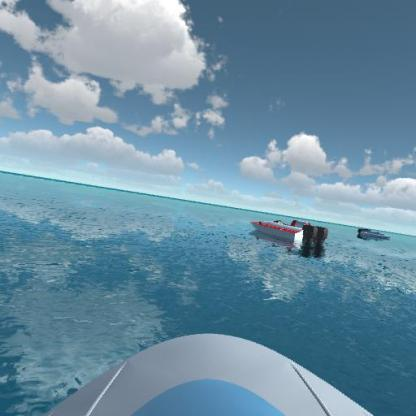usv1: (356, 222, 394, 244)
usv3: (245, 215, 329, 258)
